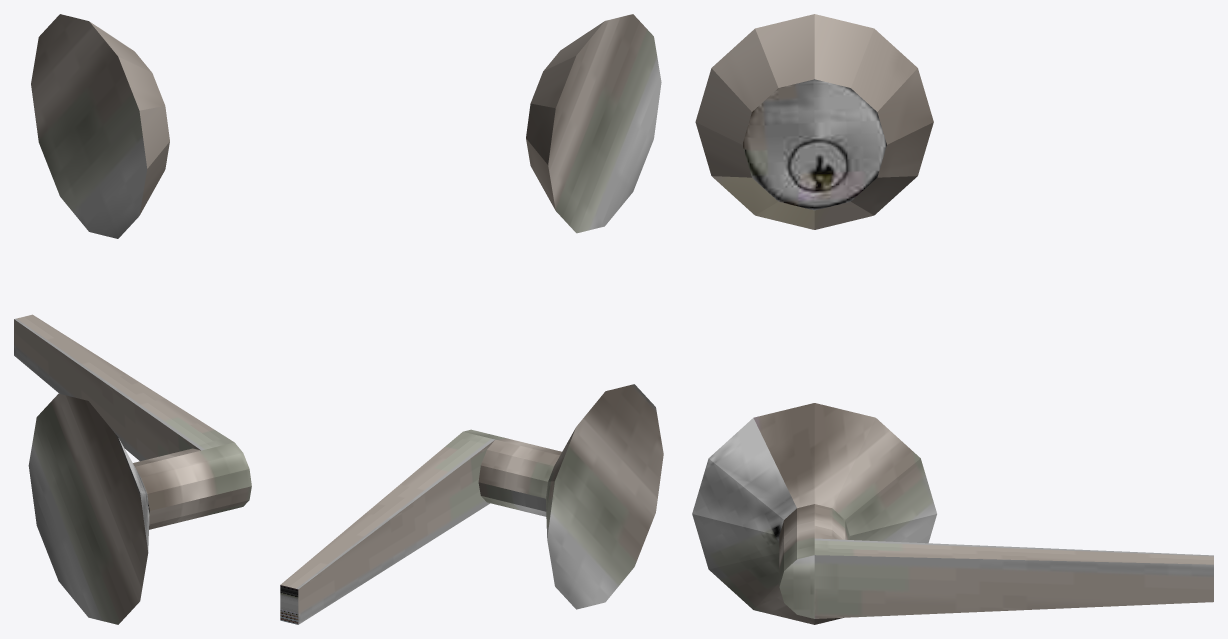
The model's file is lock.glb.
The picture shows the model from 3 angles, left to right: view 1: azimuth 30°, elevation 25°; view 2: azimuth 150°, elevation 25°; view 3: azimuth 270°, elevation 25°; orthographic projection. The views are drawn at different scales.
Parts seen in each view (by area): view 1: Lock; view 2: Lock; view 3: Lock.
Part boxes in pixels (left/top/right/bottom): Lock: left=14, top=14, right=251, bottom=624; Lock: left=280, top=14, right=663, bottom=624; Lock: left=692, top=14, right=1213, bottom=624.
Size of the model in its own units: 1.41 by 5.5 by 4.26.
1 material, 1 textured.
